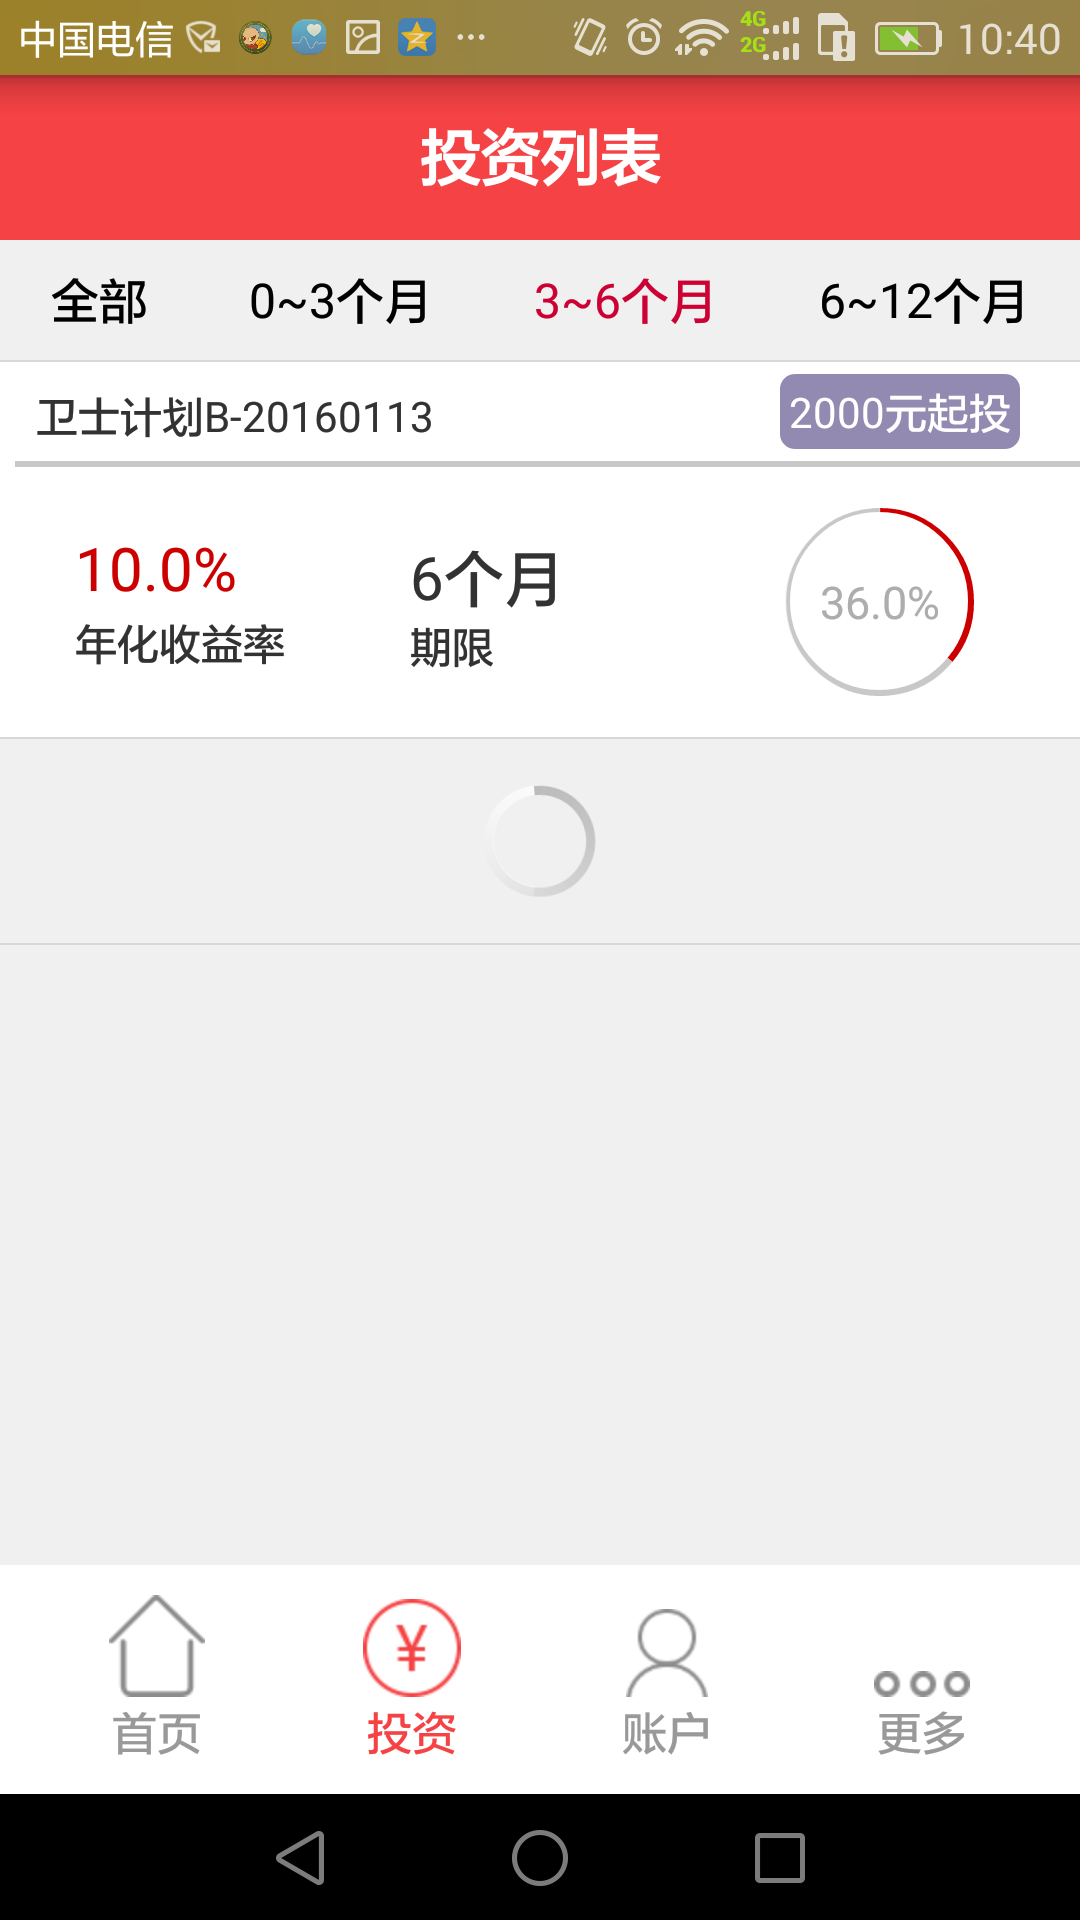textview: (8, 459, 1080, 740)
